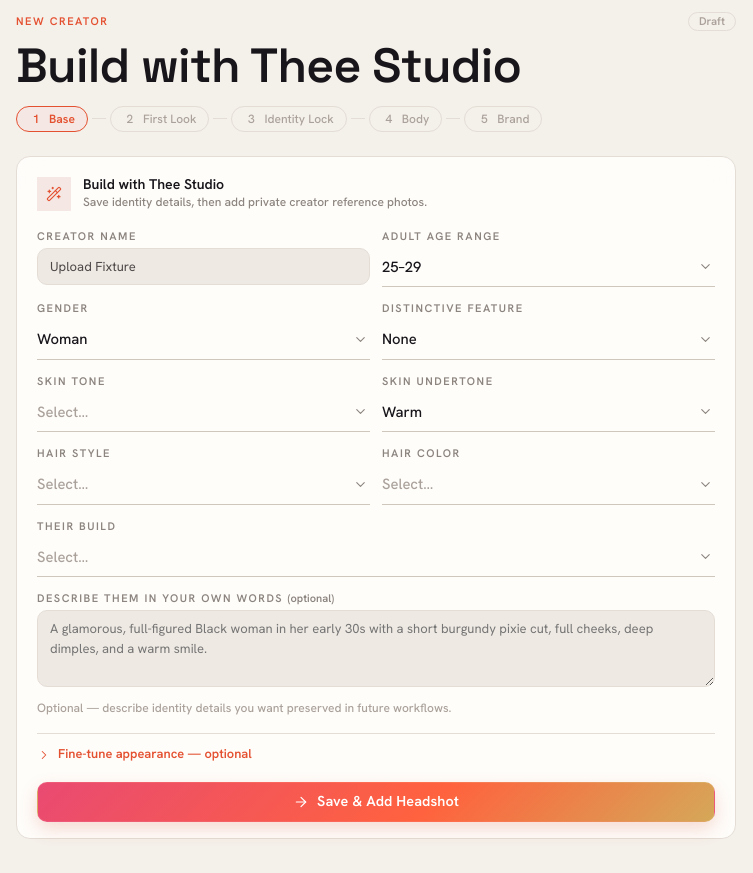
approved creator-builder interface › prevents duplicate draft creation and opens private headshot upload
Click the button "Save & Add Headshot": click(376, 802) [37,782,715,822]
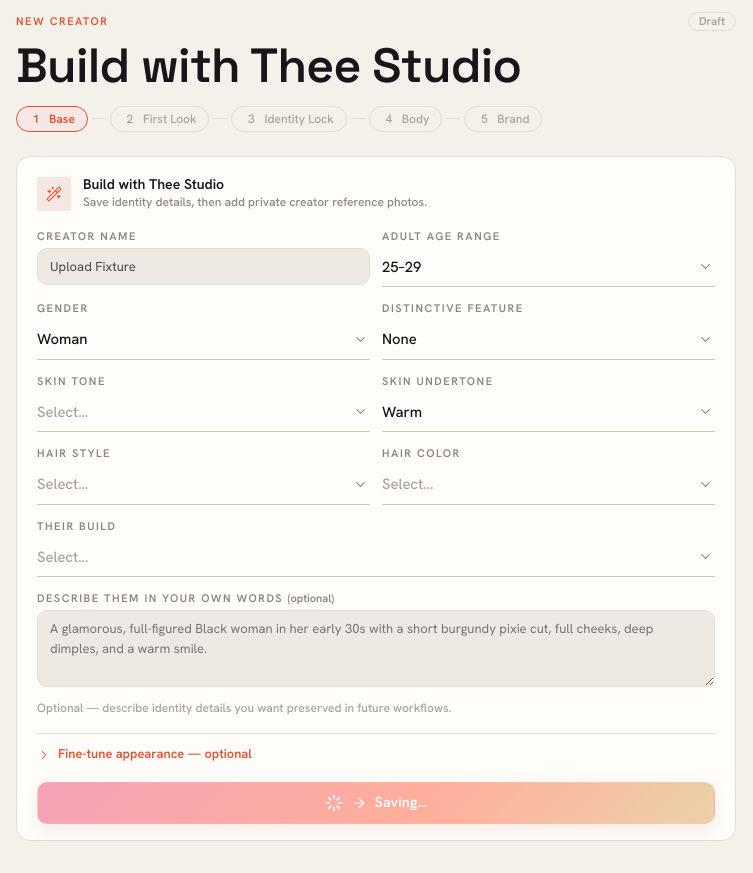
Click the button named "save & add headshot": click(376, 803) [37,782,715,824]
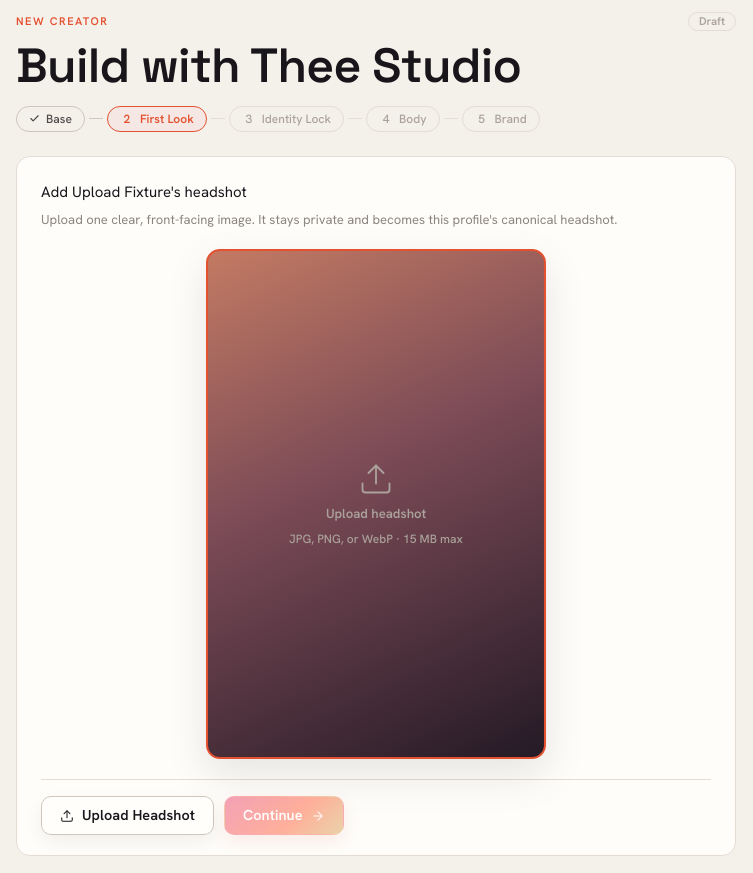
Check: the heading "Add Upload Fixture's headshot" is shown, box [41,182,247,202]
